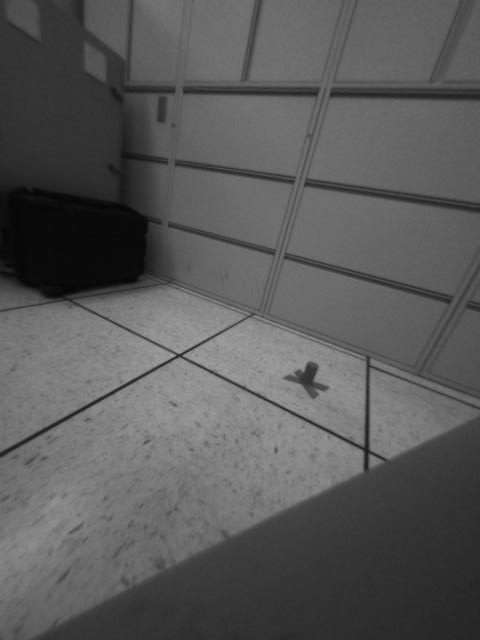X: (278, 359, 334, 401)
